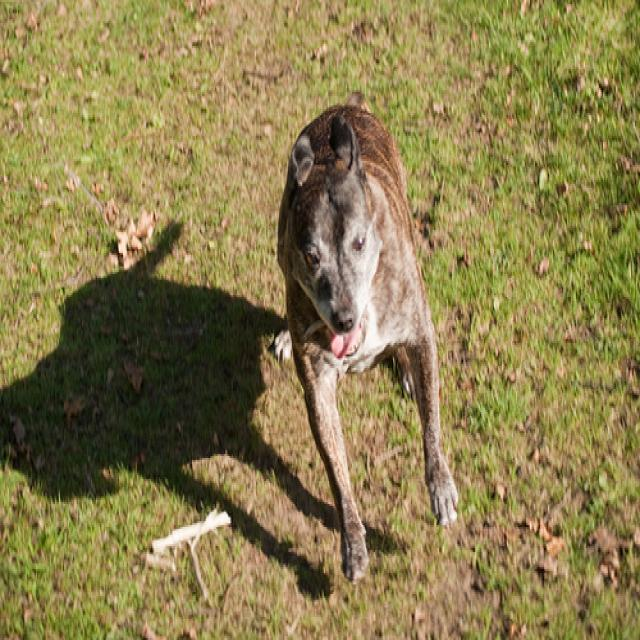dog-staffordshire_bull_terrier: (262, 79, 465, 594)
